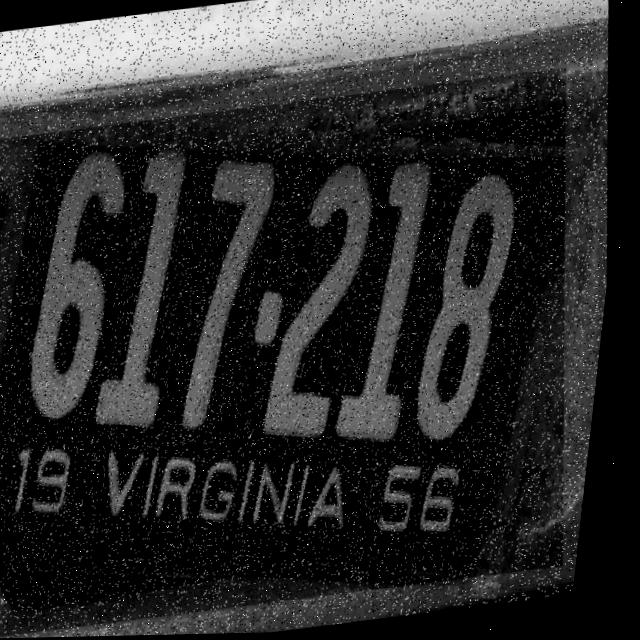LicensePlate: (0, 69, 619, 640)
